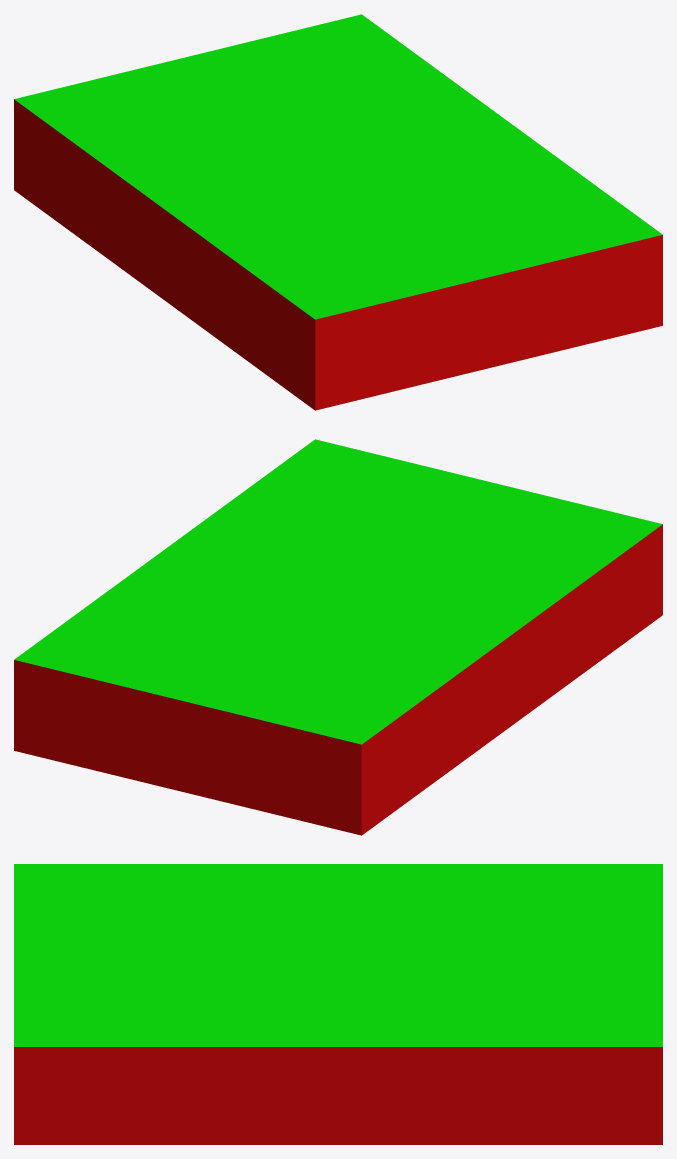
Rendered from 6x4Block.fbx.
3 renders of one model, top to bottom at view 1: azimuth 30°, elevation 25°; view 2: azimuth 150°, elevation 25°; view 3: azimuth 270°, elevation 25°, orthographic. The views are drawn at different scales.
Visible parts, largest first — view 1: pCube4; view 2: pCube4; view 3: pCube4.
Boxes of the visible parts, x1,y1,x2,y2 form: pCube4: (14,14,662,410); pCube4: (14,439,662,835); pCube4: (14,864,662,1144).
Bounding box in the file's own units: 4 × 1 × 6.
